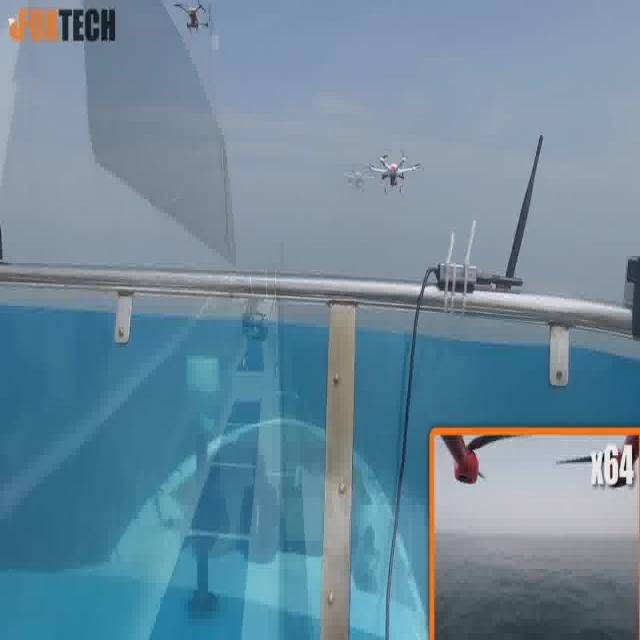drone: (368, 148, 421, 196), (173, 0, 212, 36)
